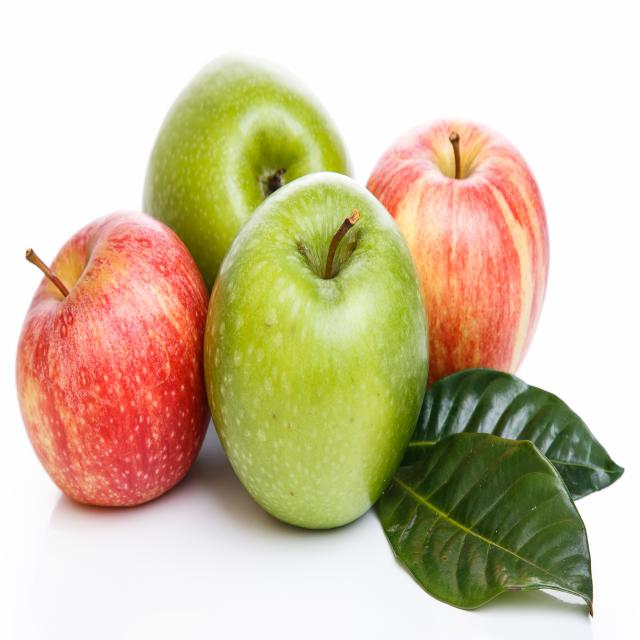apple: (203, 173, 424, 531), (14, 212, 203, 509), (377, 119, 551, 366), (143, 57, 294, 226)
